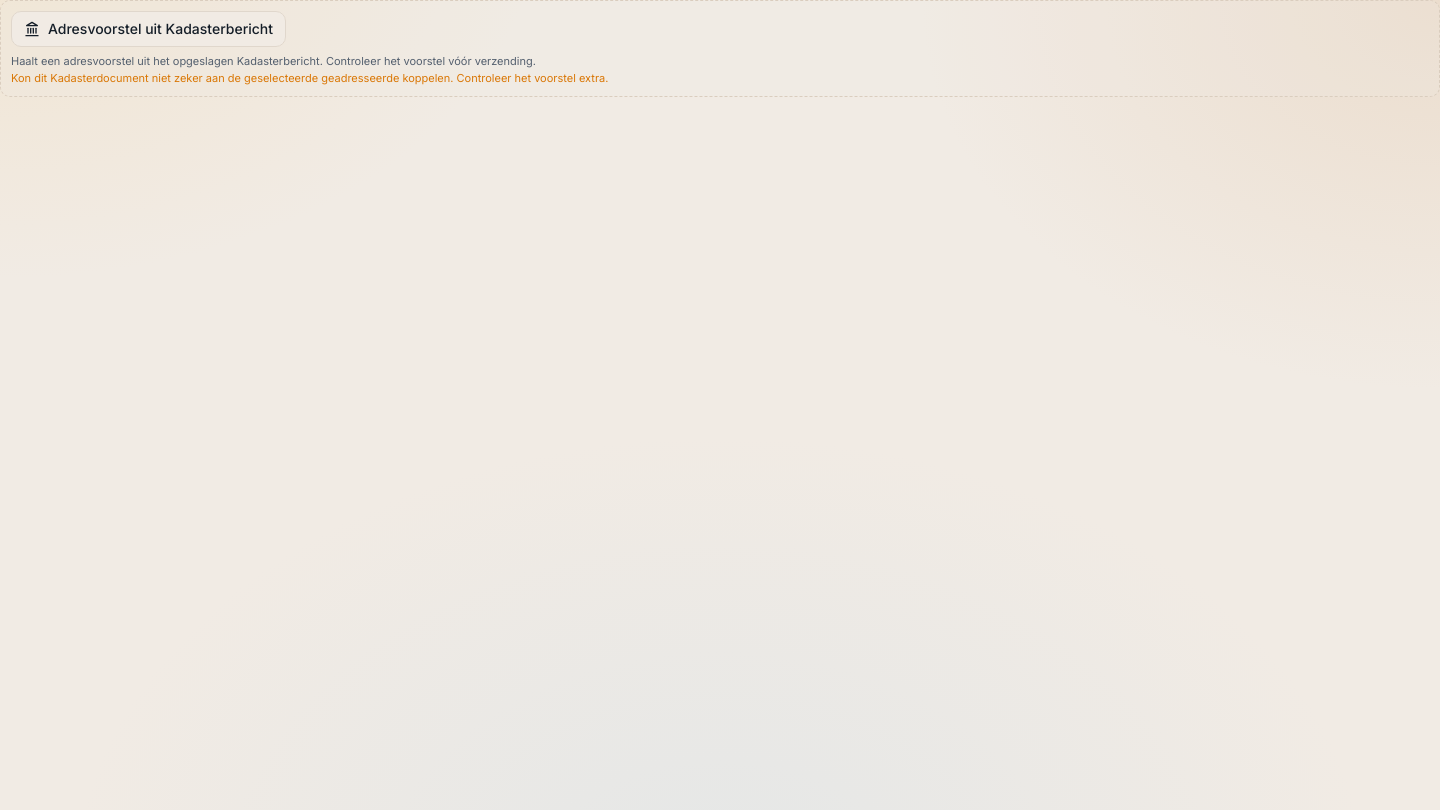
Test case: KadasterPdfAdresVoorstelPanel · labels en matching › herkent rechtspersoonmatch tussen "Voorbeeld BV" en "Voorbeeld B.V."
Later steps or results of the test are not shown.
Step 1. Click the button with test id "kpv-start-knop" → (148, 29), box x1=11 y1=11 x2=286 y2=47
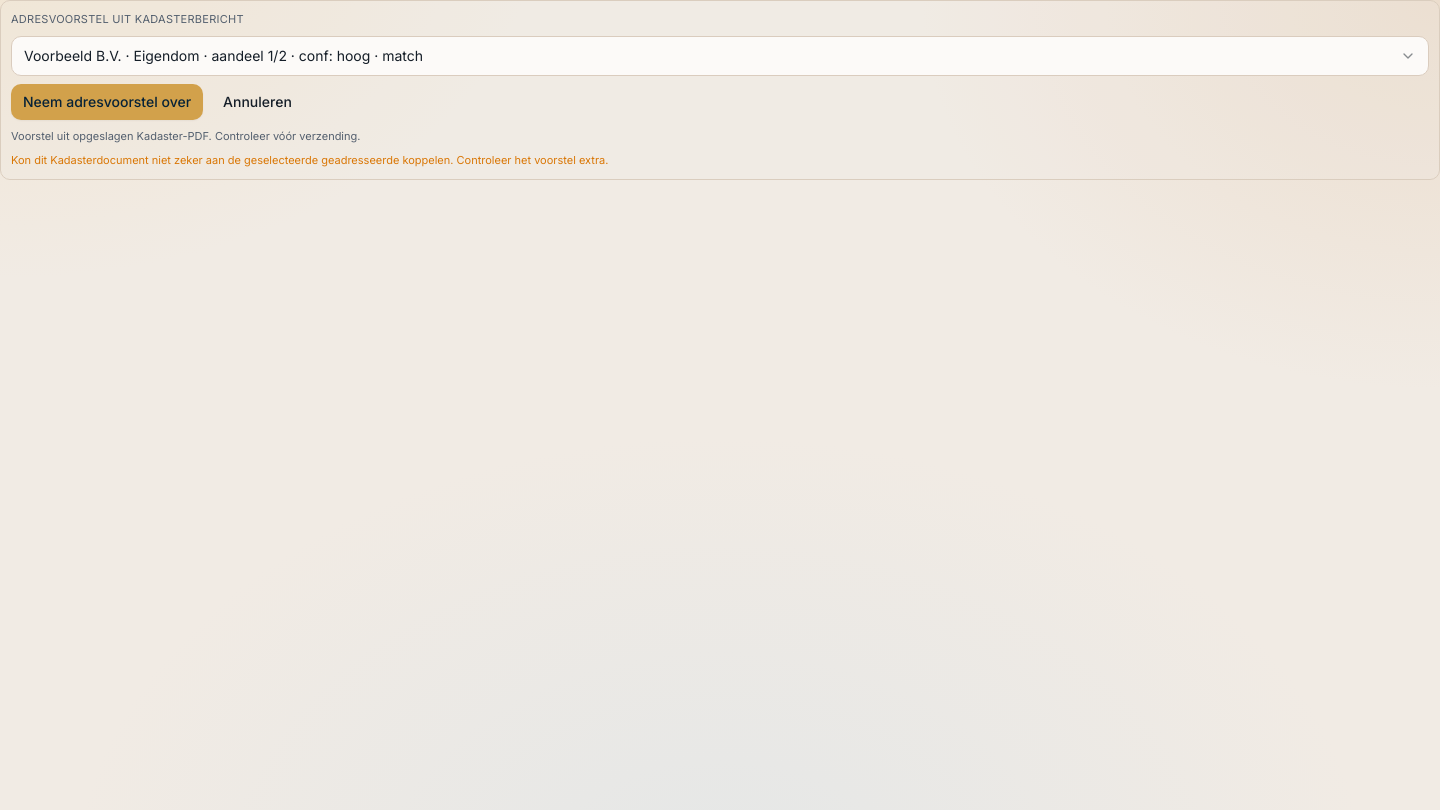
Expected: the dropdown with test id "kpv-keuze-trigger" reads "Voorbeeld B.V. · Eigendom · aandeel 1/2 · conf: hoog · match", x1=11 y1=36 x2=1429 y2=76
